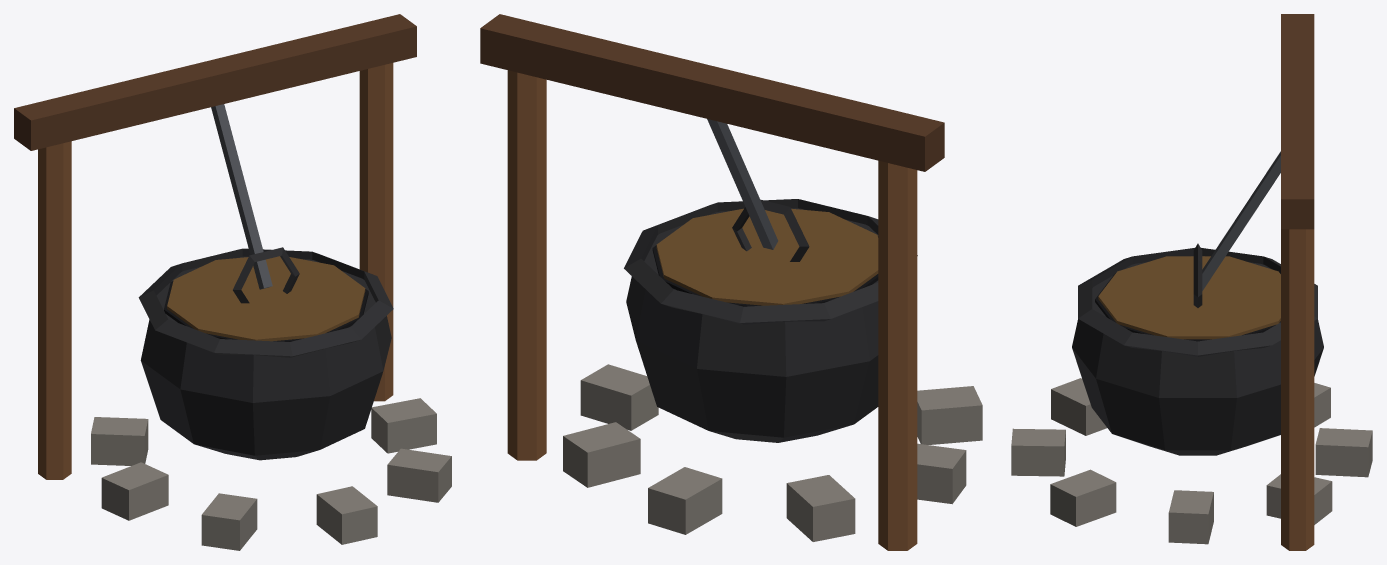
Rendered from vfem2_leather_boilpot_full.obj.
3 renders of one model, left to right at view 1: azimuth 30°, elevation 25°; view 2: azimuth 150°, elevation 25°; view 3: azimuth 270°, elevation 25°, orthographic. The views are drawn at different scales.
Parts seen in each view (by area): view 1: vfem2_leather_boilpot_full; view 2: vfem2_leather_boilpot_full; view 3: vfem2_leather_boilpot_full.
Part boxes in pixels (box(x1,y1,x2,y2)): vfem2_leather_boilpot_full: box(14, 14, 451, 550); vfem2_leather_boilpot_full: box(480, 14, 982, 550); vfem2_leather_boilpot_full: box(1011, 14, 1372, 550).
Size of the model in its own units: 1.32 by 1.2 by 1.09.
